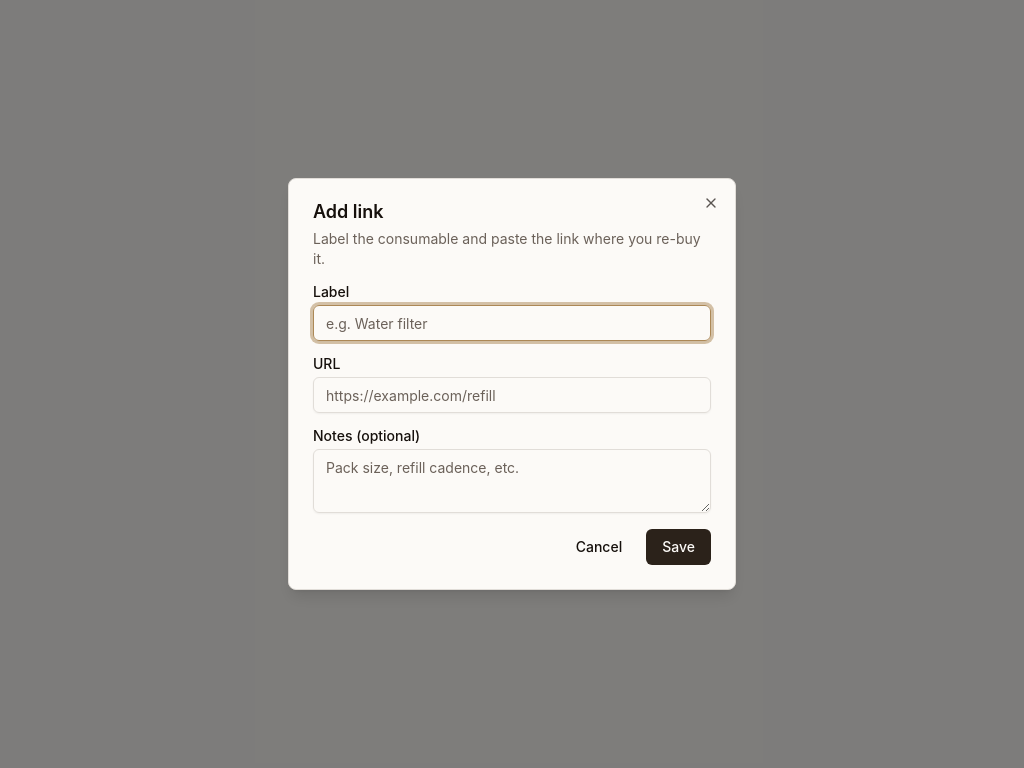
Scenario: <SupplyLinkDialog /> › blocks submit when label is empty
Type "https://example.com/x" into the field with test id "supply-link-url-input" at {"x": 512, "y": 395}, box 313,377 -> 711,413
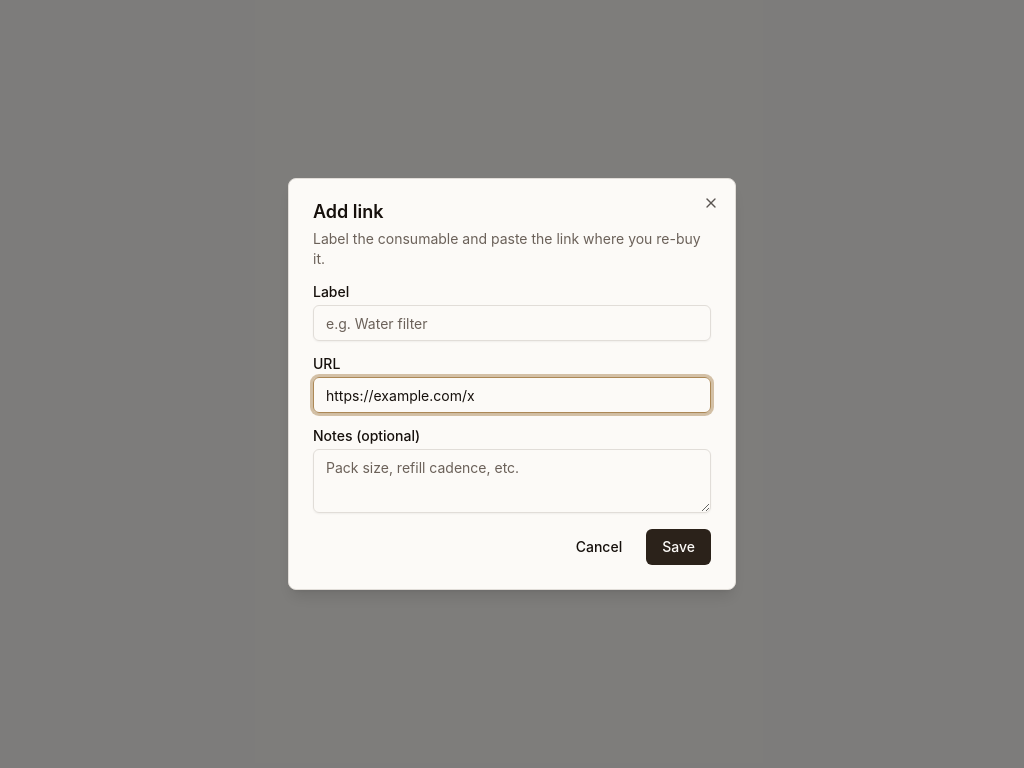
Click the button with test id "supply-link-submit" at {"x": 679, "y": 547}, box 646,529 -> 711,565
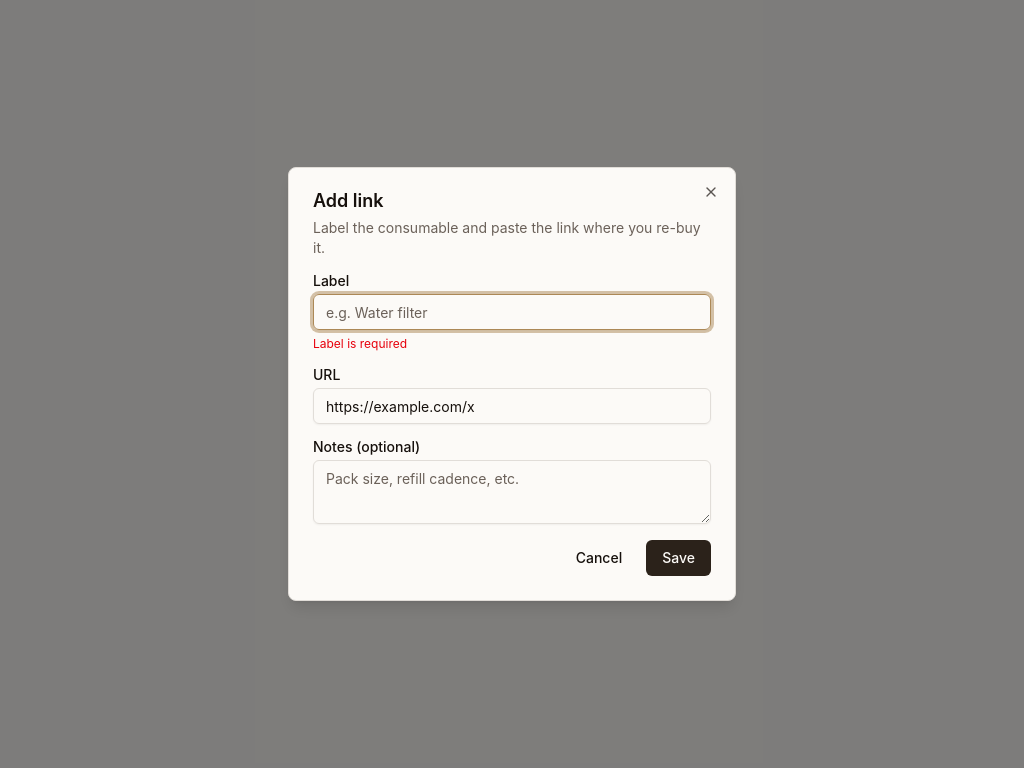
Expected: the text "Label is required" is shown, 313,336 -> 407,351
